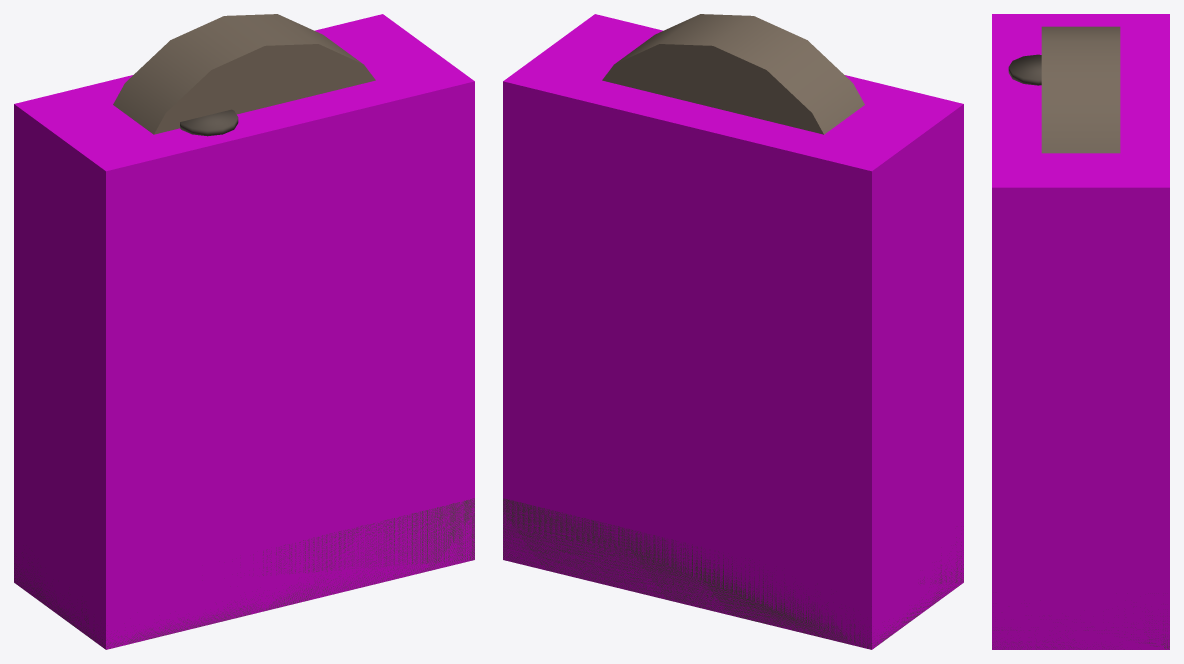
File: PRP_Inscription_Stone_A.glb
The picture shows the model from 3 angles, left to right: view 1: azimuth 30°, elevation 25°; view 2: azimuth 150°, elevation 25°; view 3: azimuth 270°, elevation 25°; orthographic projection. The views are drawn at different scales.
Visible parts, largest first — view 1: COL_Stone, PRP_Inscription_Stone_A_Mesh; view 2: COL_Stone, PRP_Inscription_Stone_A_Mesh; view 3: COL_Stone, PRP_Inscription_Stone_A_Mesh.
Part boxes in pixels (x1,y1,x2,y2): COL_Stone: (14, 14, 474, 649); PRP_Inscription_Stone_A_Mesh: (14, 14, 474, 649); COL_Stone: (503, 14, 963, 649); PRP_Inscription_Stone_A_Mesh: (503, 14, 963, 649); COL_Stone: (992, 14, 1169, 649); PRP_Inscription_Stone_A_Mesh: (992, 26, 1169, 649).
Bounding box in the file's own units: 1.25 × 1.75 × 0.54.
